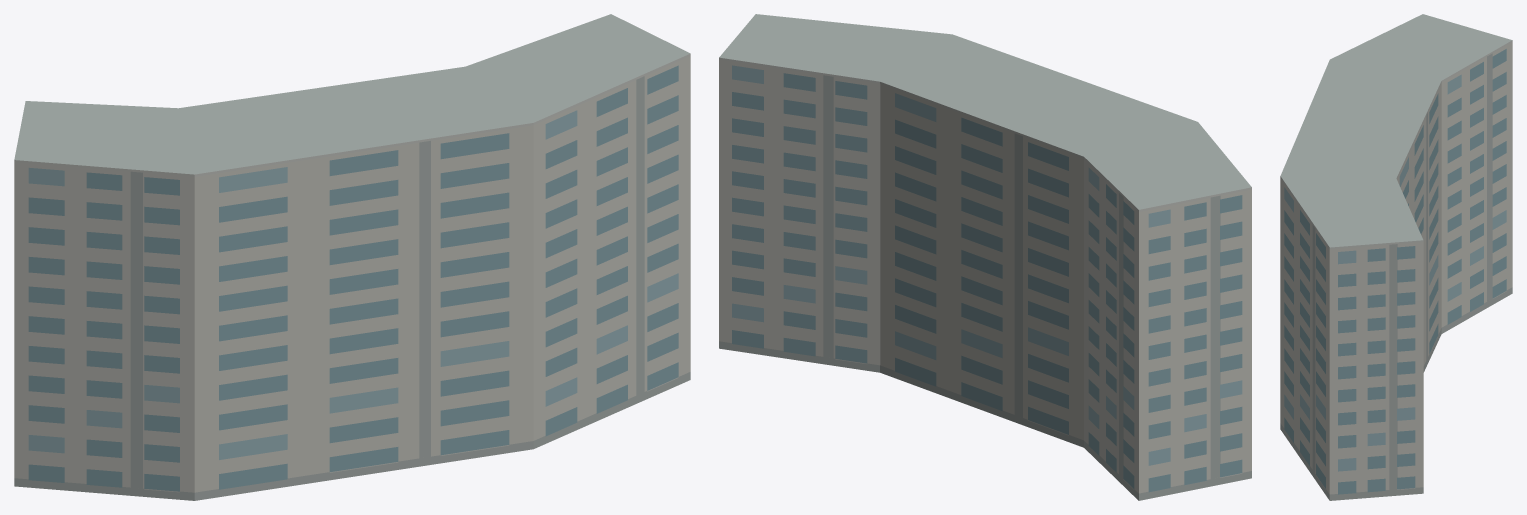
Rendered from residential-0ad83432-f93a-4093-b3b3-f49f02ebe330.glb.
3 renders of one model, left to right at view 1: azimuth 30°, elevation 25°; view 2: azimuth 150°, elevation 25°; view 3: azimuth 270°, elevation 25°, orthographic. The views are drawn at different scales.
Visible parts, largest first — view 1: residential-0ad83432-f93a-4093-b3b3-f49f02ebe330.tmp; view 2: residential-0ad83432-f93a-4093-b3b3-f49f02ebe330.tmp; view 3: residential-0ad83432-f93a-4093-b3b3-f49f02ebe330.tmp.
Part boxes in pixels (x1=…): residential-0ad83432-f93a-4093-b3b3-f49f02ebe330.tmp: x1=14, y1=14, x2=690, y2=500; residential-0ad83432-f93a-4093-b3b3-f49f02ebe330.tmp: x1=719, y1=14, x2=1251, y2=500; residential-0ad83432-f93a-4093-b3b3-f49f02ebe330.tmp: x1=1280, y1=14, x2=1512, y2=500.
Size of the model in its own units: 69.19 by 35 by 29.07.
